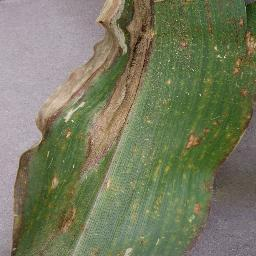Corn_Blight: (33, 2, 164, 134), (7, 139, 81, 249), (200, 4, 256, 125), (178, 125, 233, 243), (169, 4, 199, 58), (143, 154, 170, 214), (86, 138, 125, 179), (124, 233, 148, 256), (163, 66, 177, 94), (111, 190, 129, 200)
